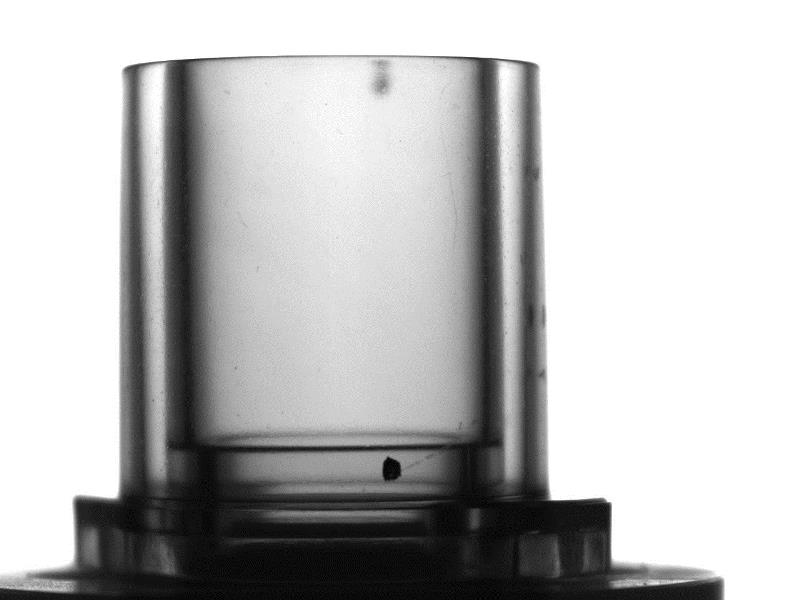blackdot: (381, 455, 404, 484)
